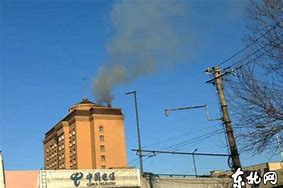smoke: (91, 1, 187, 103)
